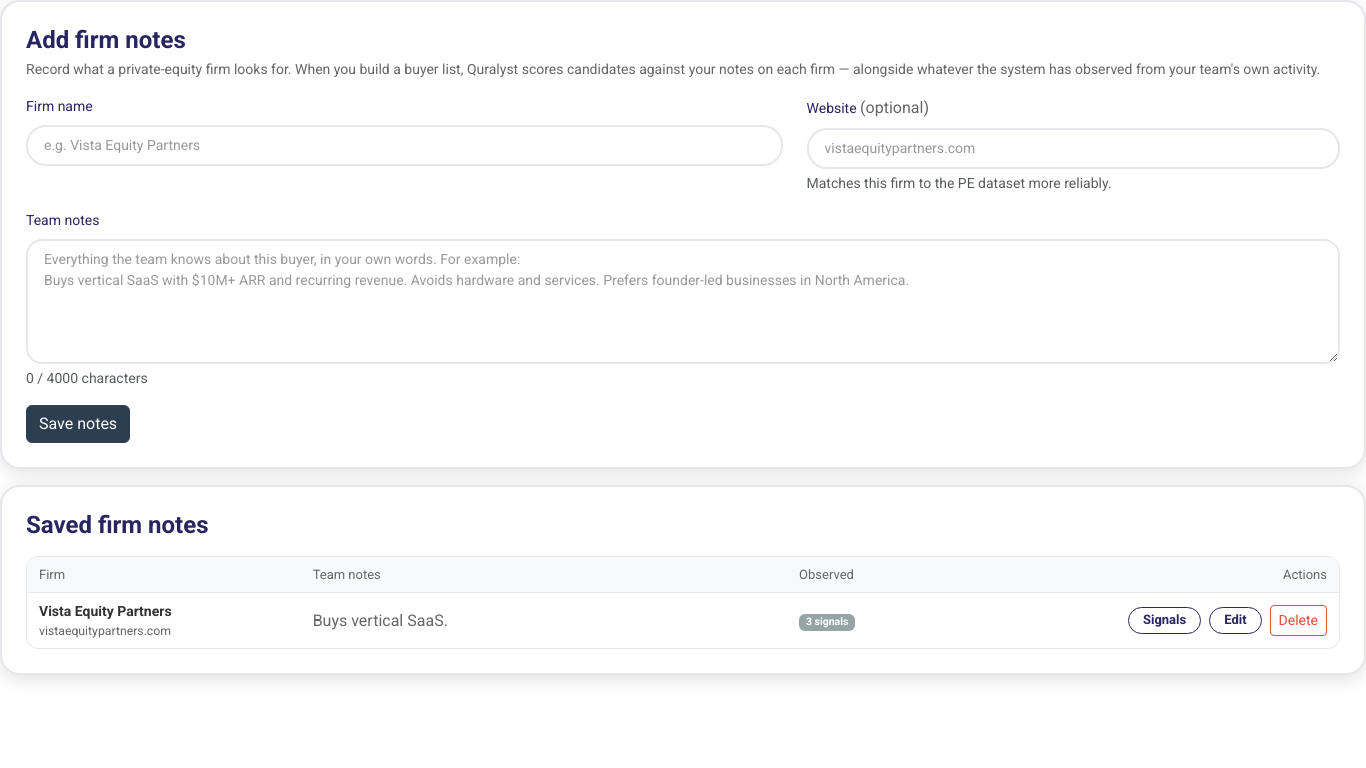
Test: FirmMemoryPage › shows the signals the system captured, grouped by kind
expect the text "Vista Equity Partners" is shown: met, box [39, 603, 172, 619]
expect the text "3 signals" is shown: met, box [799, 614, 855, 631]
Click the button "Signals" at point(1165, 621), box [1128, 607, 1201, 634]
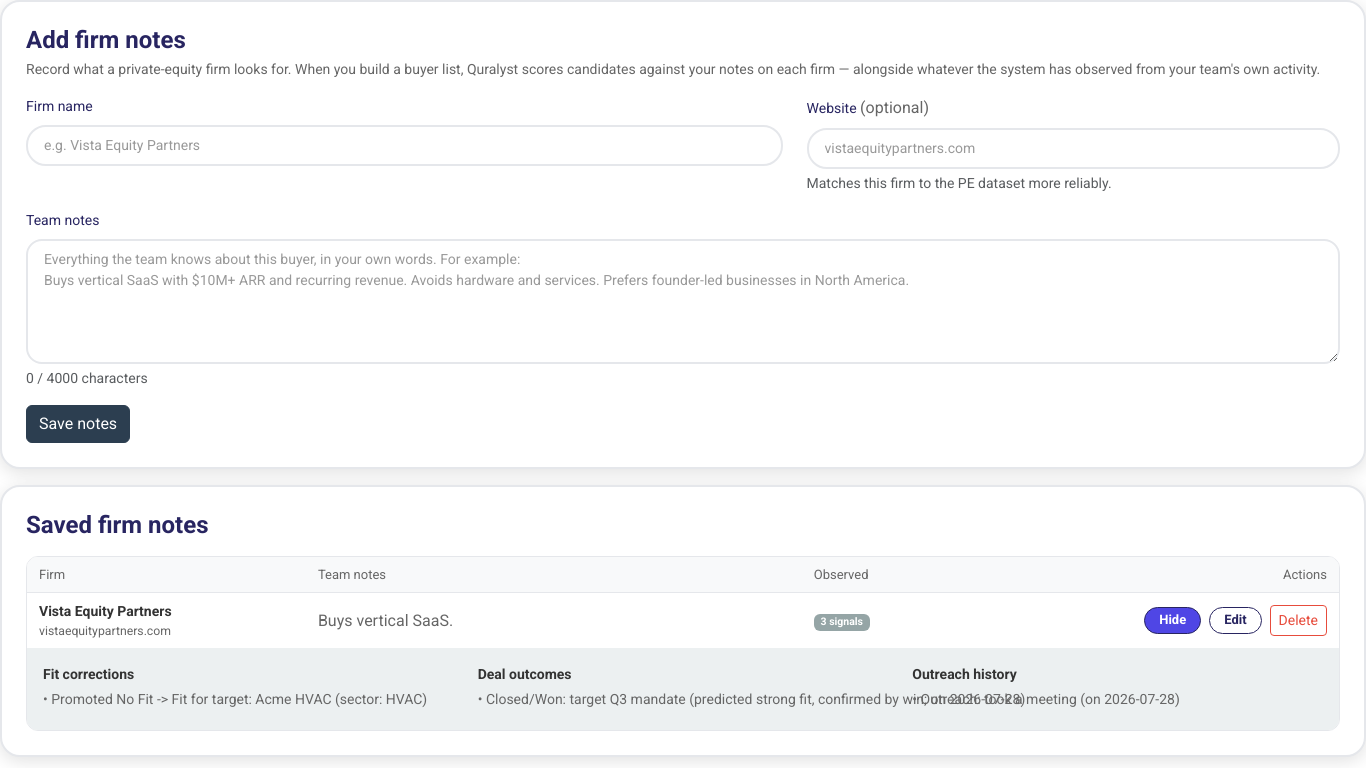
expect the list item "Promoted No Fit -> Fit for target: Acme HVAC" is shown: met, box [51, 692, 427, 708]
expect the text "Fit corrections" is shown: met, box [43, 666, 134, 682]
expect the text "Deal outcomes" is shown: met, box [478, 666, 572, 682]
